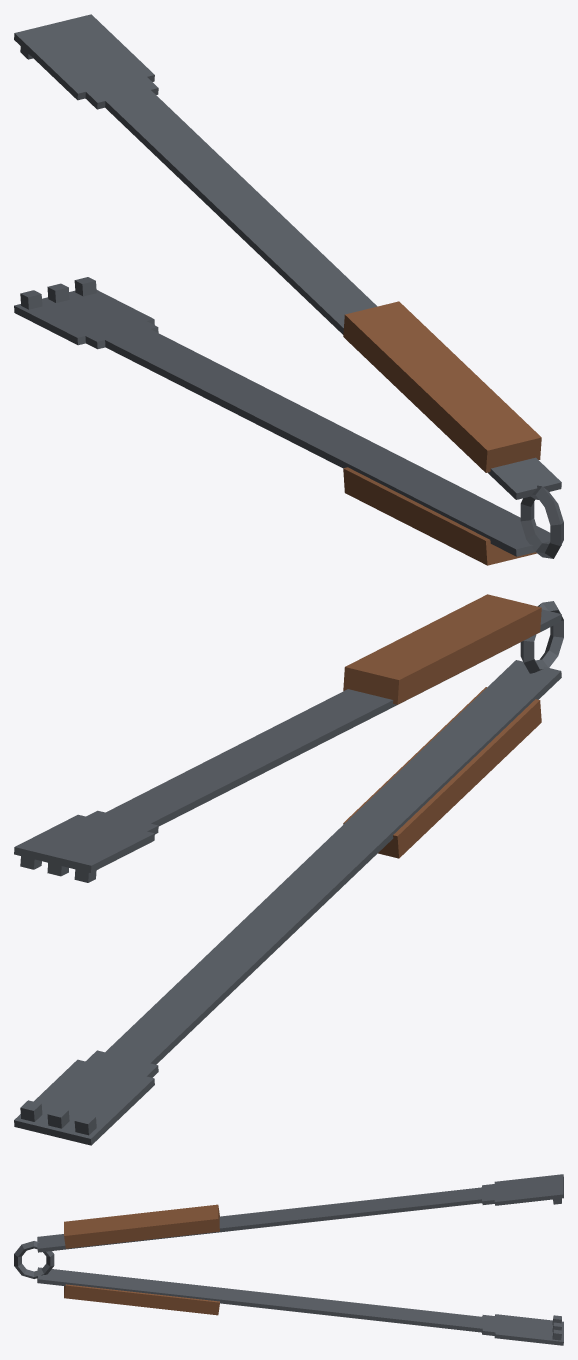
The model's file is pinzas.glb.
The picture shows the model from 3 angles, top to bottom: view 1: azimuth 30°, elevation 25°; view 2: azimuth 150°, elevation 25°; view 3: azimuth 270°, elevation 25°; orthographic projection. The views are drawn at different scales.
Parts seen in each view (by area): view 1: BrazoArriba_malla, BrazoAbajo_malla, Bisagra; view 2: BrazoAbajo_malla, BrazoArriba_malla, Bisagra; view 3: BrazoArriba_malla, BrazoAbajo_malla, Bisagra.
Part boxes in pixels (x1=…): BrazoArriba_malla: x1=14, y1=14, x2=561, y2=499; BrazoAbajo_malla: x1=14, y1=277, x2=561, y2=565; Bisagra: x1=520, y1=485, x2=563, y2=558; BrazoAbajo_malla: x1=14, y1=660, x2=561, y2=1145; BrazoArriba_malla: x1=14, y1=594, x2=561, y2=882; Bisagra: x1=520, y1=601, x2=563, y2=673; BrazoArriba_malla: x1=37, y1=1174, x2=563, y2=1252; BrazoAbajo_malla: x1=37, y1=1267, x2=563, y2=1345; Bisagra: x1=14, y1=1241, x2=54, y2=1278.
Size of the model in its own units: 0.034 by 0.1182 by 0.3892.
